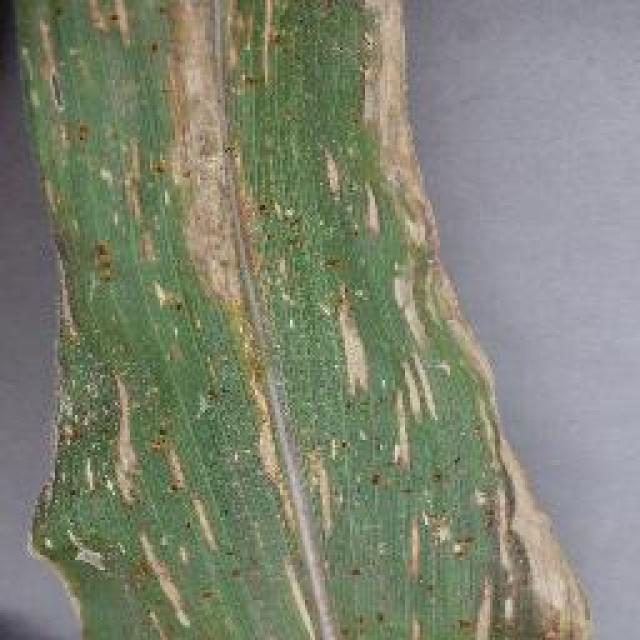Corn___Cercospora_leaf_spot Gray_leaf_spot: (11, 0, 424, 638)
